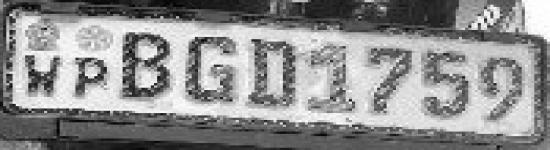1: (304, 38, 360, 119)
5: (416, 46, 476, 126)
7: (362, 41, 416, 121)
9: (476, 52, 529, 128)
B: (117, 28, 176, 103)
D: (242, 32, 302, 116)
G: (176, 28, 240, 108)
P: (70, 51, 113, 102)
W: (21, 52, 67, 100)
